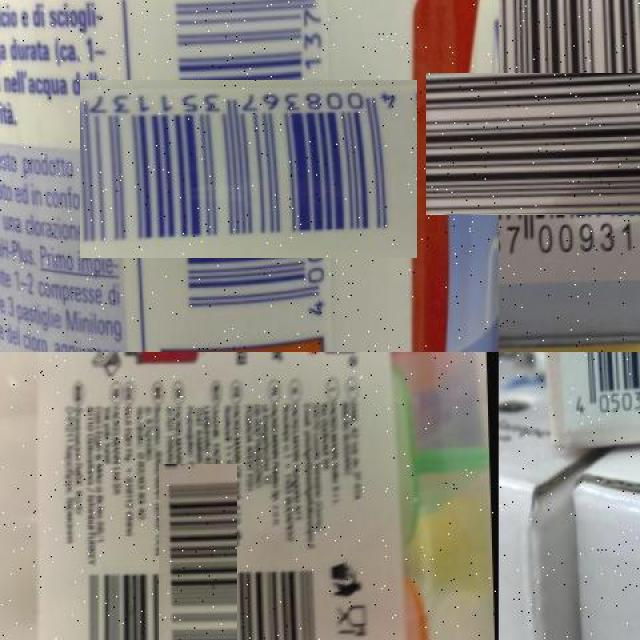Barcode: (119, 40, 377, 298), (461, 37, 640, 252), (109, 513, 286, 640)
